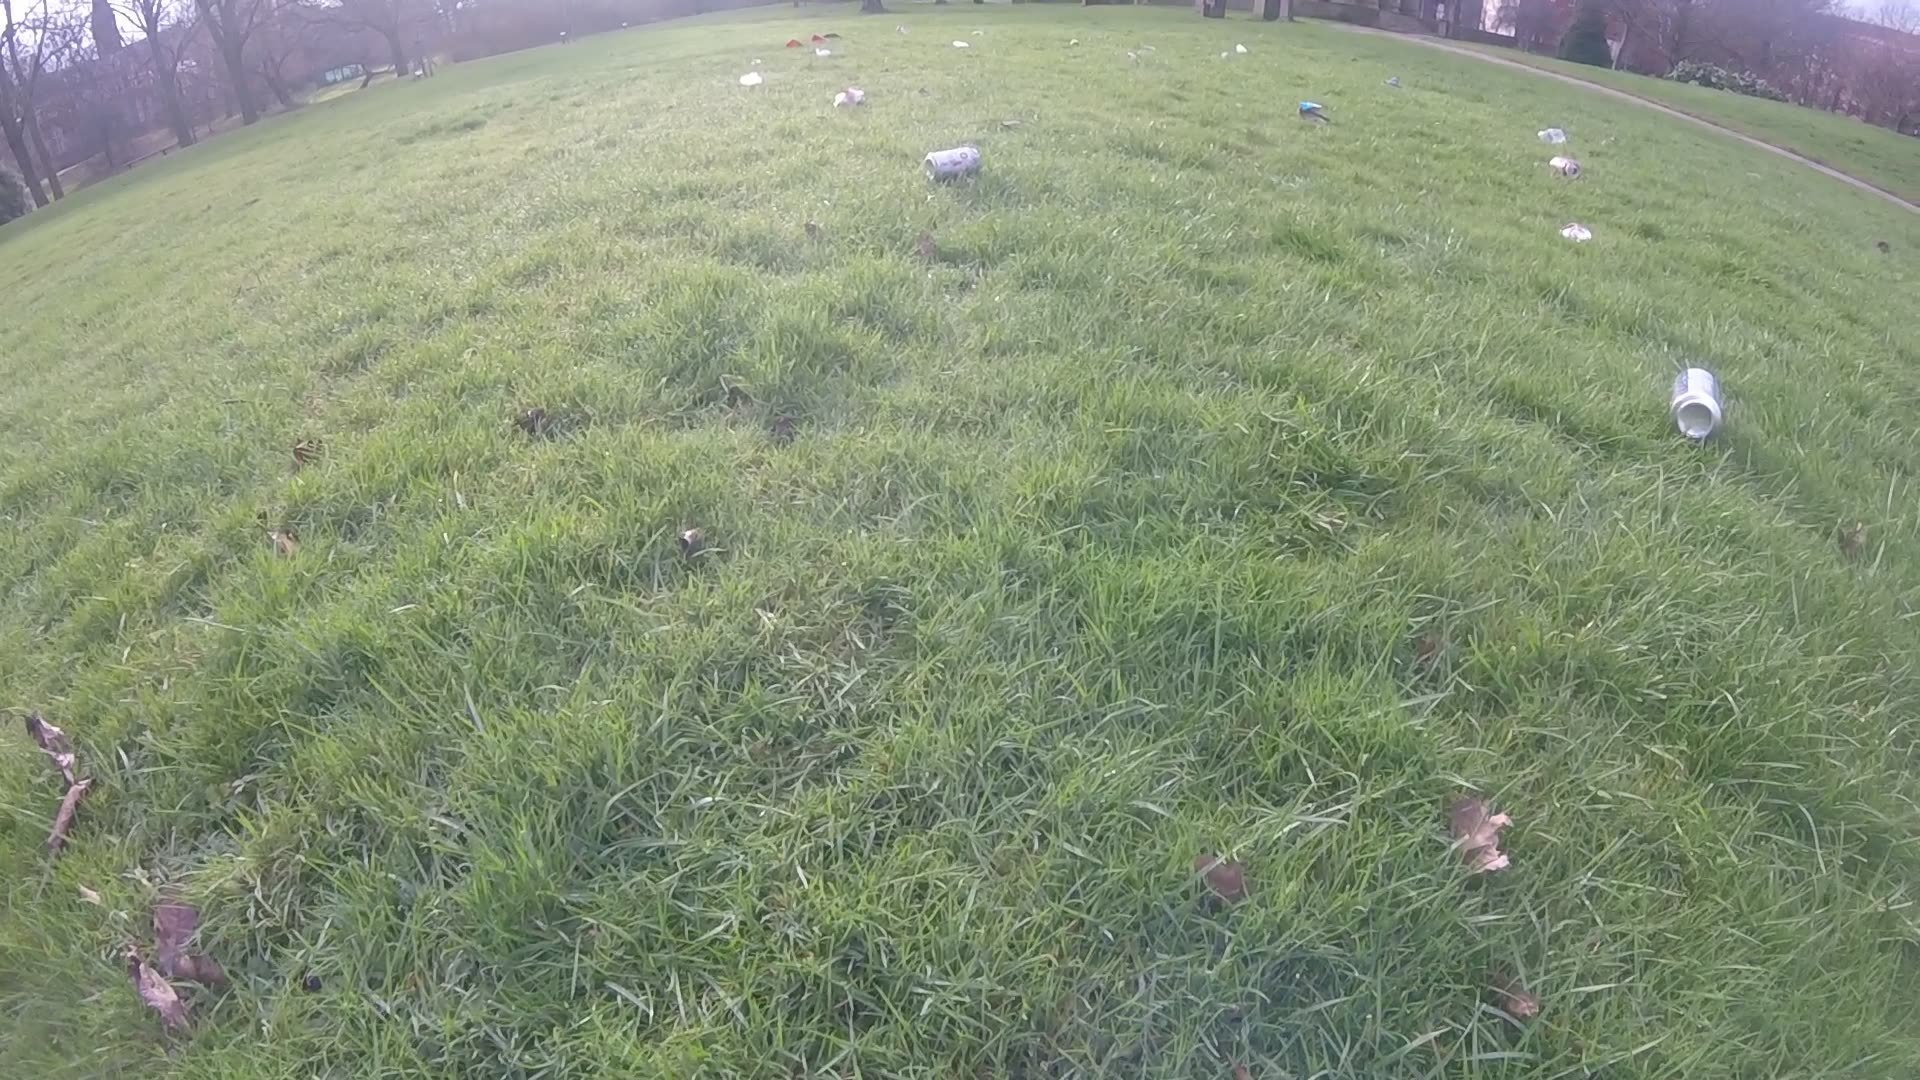litter: (1668, 369, 1725, 443), (920, 146, 982, 185), (1298, 100, 1333, 127), (1548, 153, 1582, 179), (833, 87, 865, 109), (1561, 222, 1592, 244), (1535, 127, 1565, 142), (738, 69, 762, 88), (1378, 78, 1399, 88), (779, 38, 802, 47), (1234, 38, 1245, 55), (818, 32, 844, 38), (807, 34, 825, 44), (818, 46, 832, 57), (891, 22, 907, 32), (949, 40, 967, 47), (1068, 36, 1079, 46), (969, 32, 982, 40), (1220, 47, 1229, 57)
